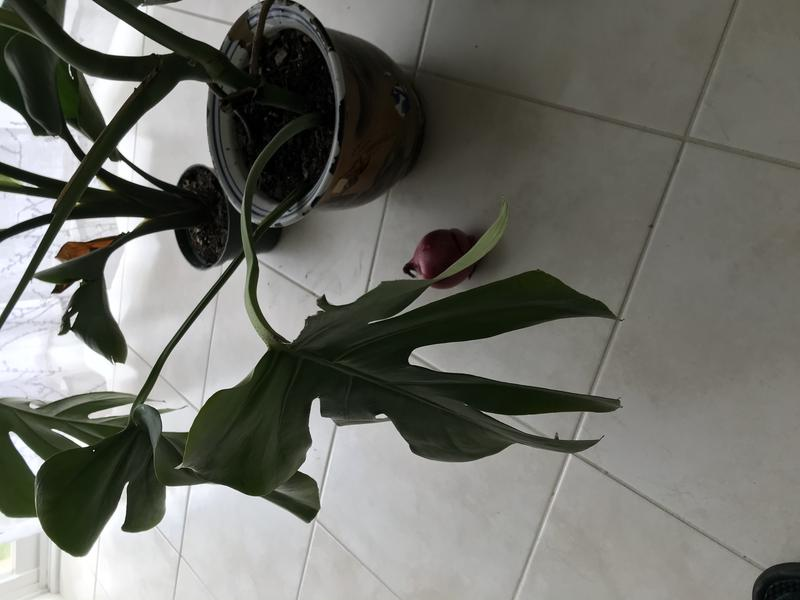purple_onion: (399, 219, 495, 287)
